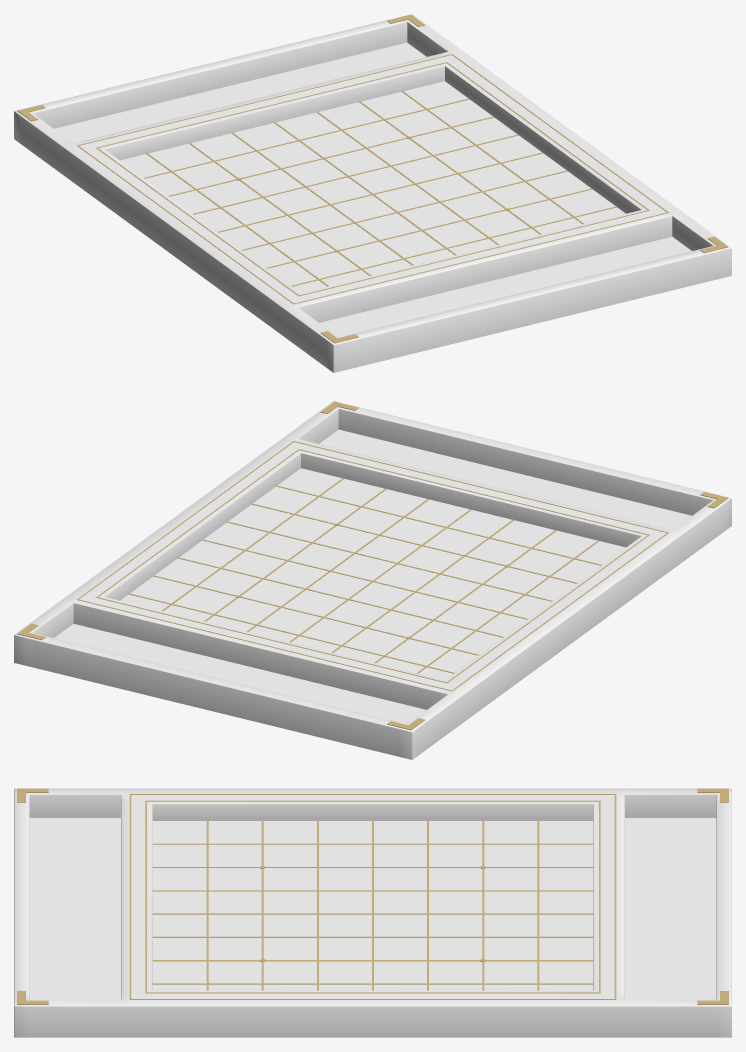
The model's file is othello-board.web.glb.
3 renders of one model, top to bottom at view 1: azimuth 30°, elevation 25°; view 2: azimuth 150°, elevation 25°; view 3: azimuth 270°, elevation 25°, orthographic. The views are drawn at different scales.
Parts seen in each view (by area): view 1: OthelloBoard; view 2: OthelloBoard; view 3: OthelloBoard.
Part boxes in pixels (x1,y1,x2,y2): OthelloBoard: [14, 14, 731, 372]; OthelloBoard: [14, 401, 731, 759]; OthelloBoard: [14, 788, 731, 1037].
Bounding box in the file's own units: 1.37 × 0.0935 × 1.9.
